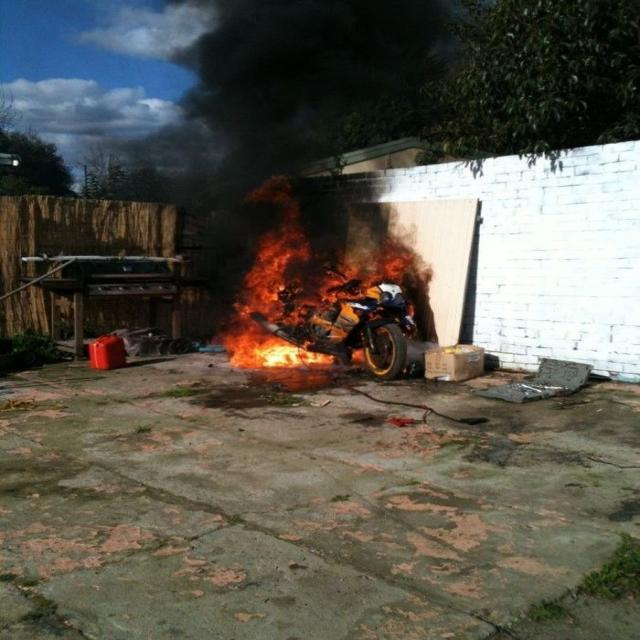Fire: (225, 176, 414, 372)
Smoke: (94, 0, 474, 306)
